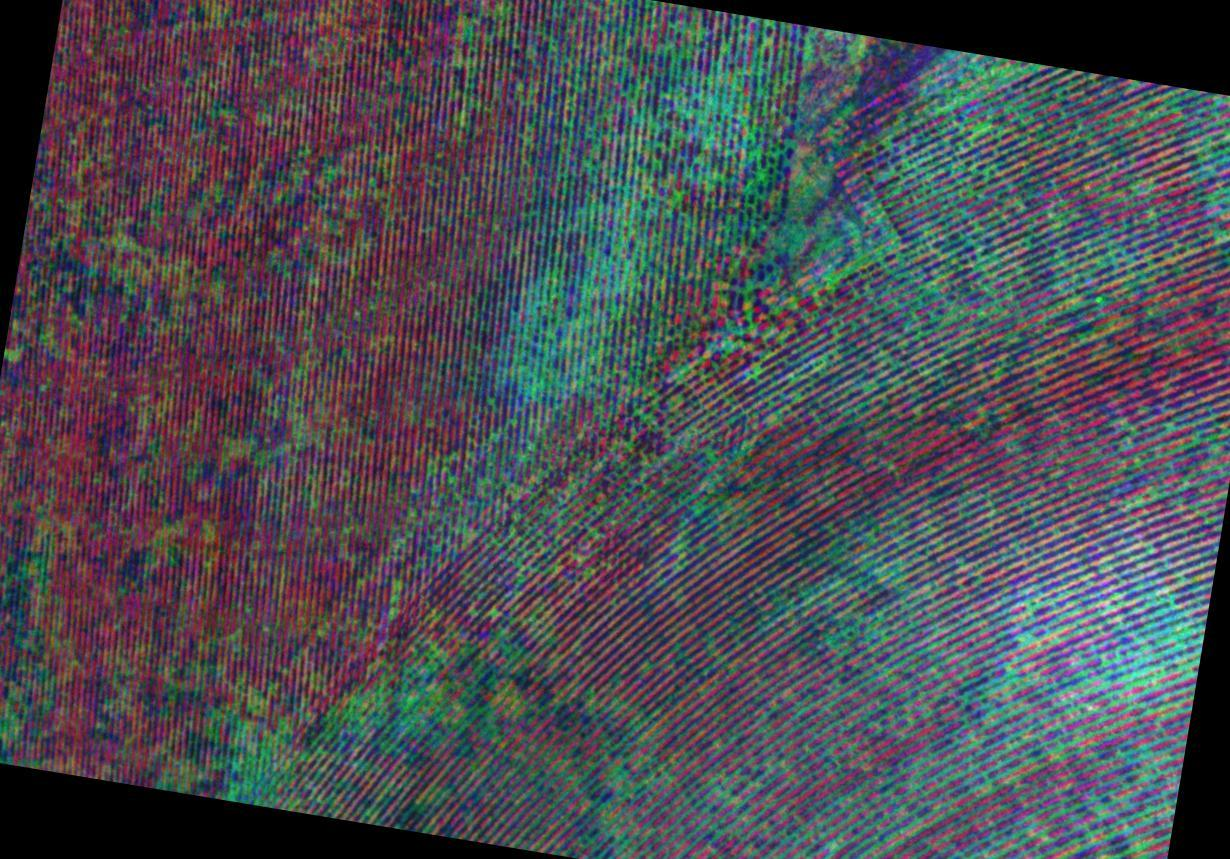dc: (616, 128, 717, 255), (511, 275, 609, 394), (1096, 593, 1203, 683), (221, 710, 308, 801), (373, 658, 457, 748), (788, 203, 883, 276)
